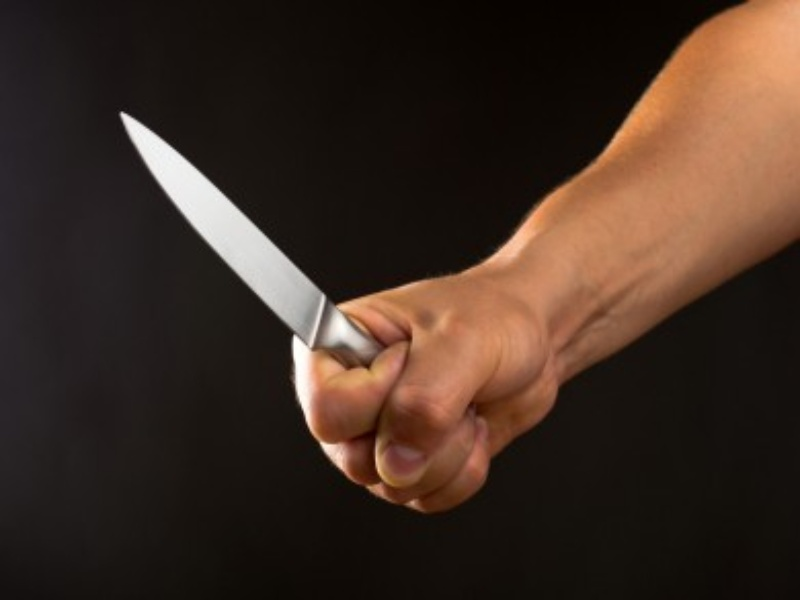hand: (291, 278, 560, 514)
knife: (117, 110, 384, 368)
